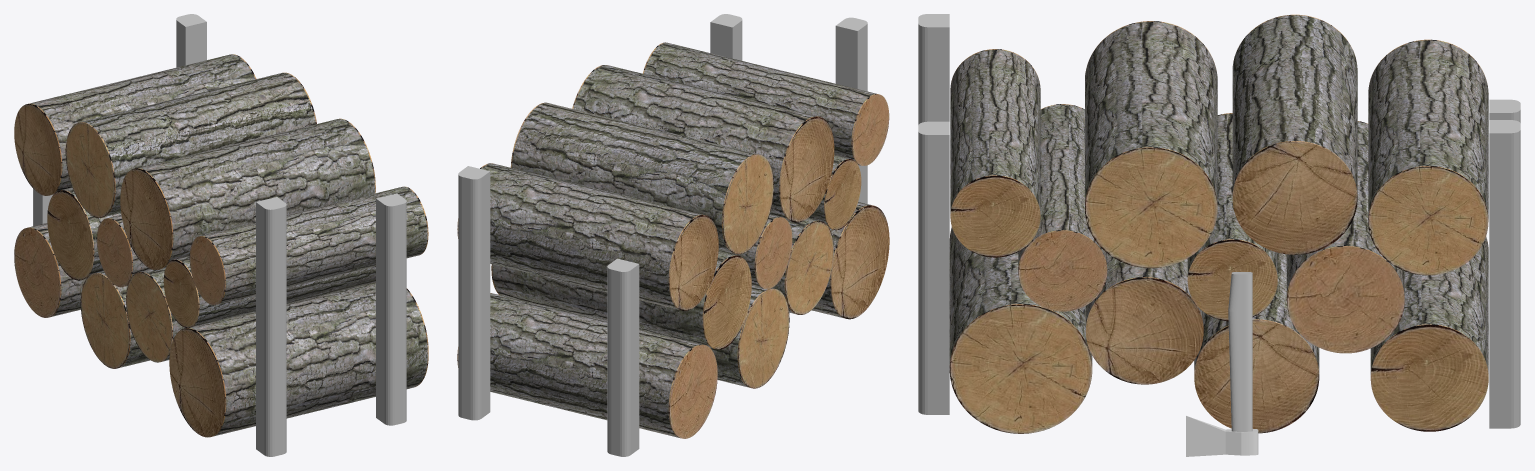
File: polennica_LOD.fbx
3 views of the same model, side by side, from view 1: azimuth 30°, elevation 25°; view 2: azimuth 150°, elevation 25°; view 3: azimuth 270°, elevation 25° (orthographic). The views are drawn at different scales.
Parts seen in each view (by area): view 1: Cube_LOD0; view 2: Cube_LOD0; view 3: Cube_LOD0.
Boxes of the visible parts, x1=… form: Cube_LOD0: x1=14, y1=14, x2=428, y2=456; Cube_LOD0: x1=457, y1=14, x2=889, y2=456; Cube_LOD0: x1=918, y1=14, x2=1520, y2=456.
Size of what is drawn, in the model's own units: 206 by 200 by 346.
